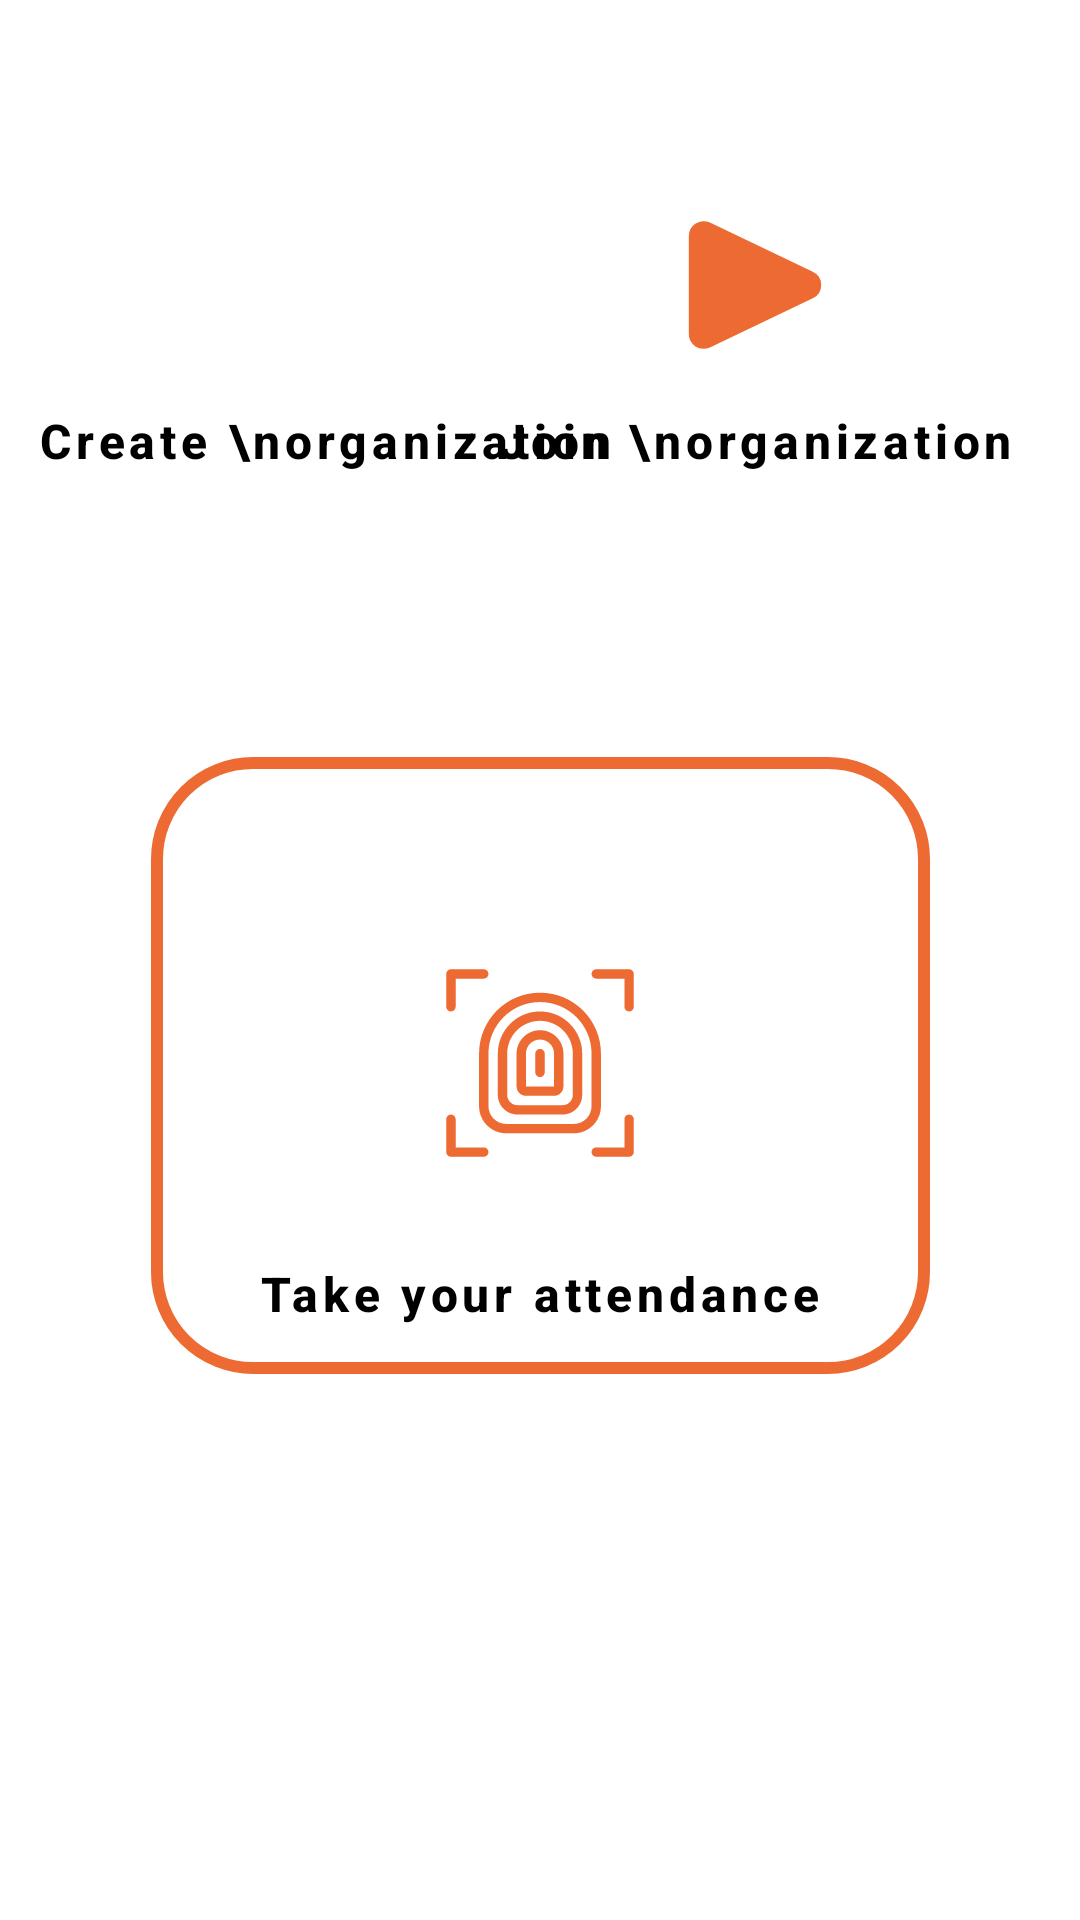

Locate icon controls on the screen. Image size 1080 x 1920, boxes as (x1, y1, x2, y2).
fingerprint touch: (446, 969, 634, 1157)
go right: (688, 221, 822, 349)
